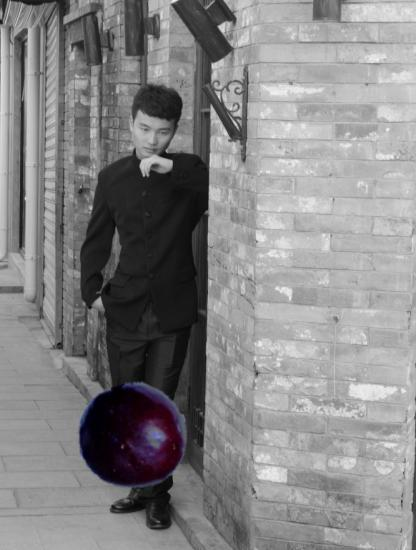Plum: (77, 381, 189, 493)
